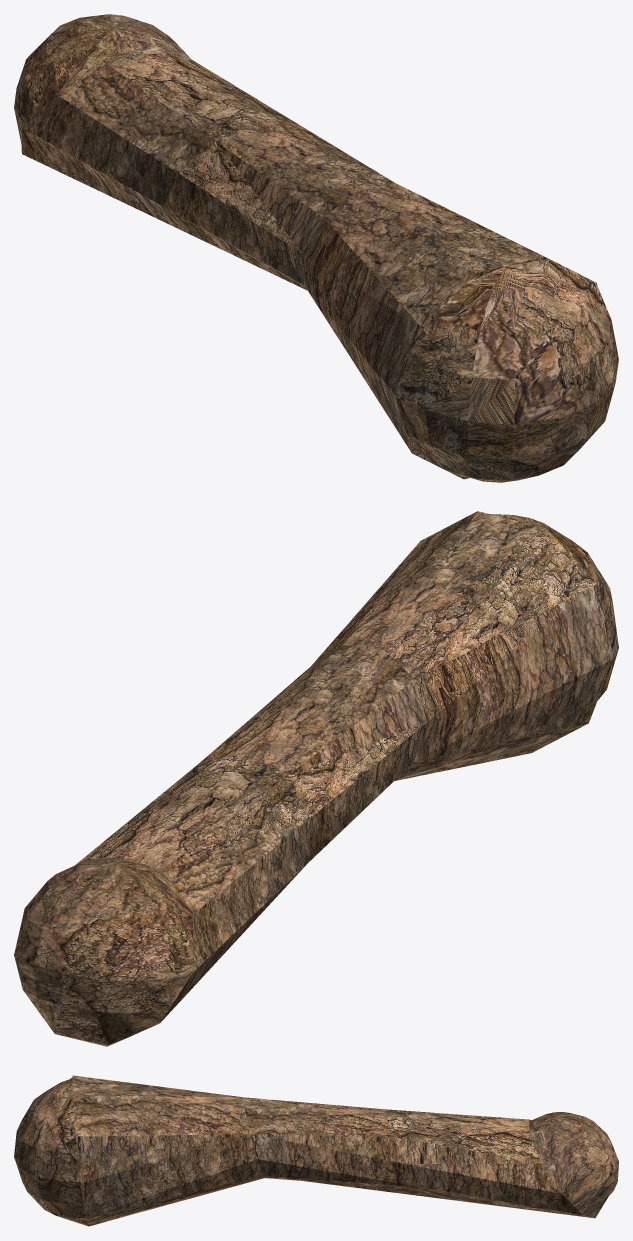
Rendered from upperarm_v3.glb.
3 views of the same model, one above another, from view 1: azimuth 30°, elevation 25°; view 2: azimuth 150°, elevation 25°; view 3: azimuth 270°, elevation 25° (orthographic). The views are drawn at different scales.
Visible parts, largest first — view 1: Sphere; view 2: Sphere; view 3: Sphere.
Part boxes in pixels (x1=…): Sphere: x1=14, y1=14, x2=618, y2=482; Sphere: x1=14, y1=511, x2=618, y2=1046; Sphere: x1=14, y1=1075, x2=618, y2=1226.
Size of what is drawn, in the model's own units: 2.72 by 2.57 by 10.76.
1 material, 1 textured.
